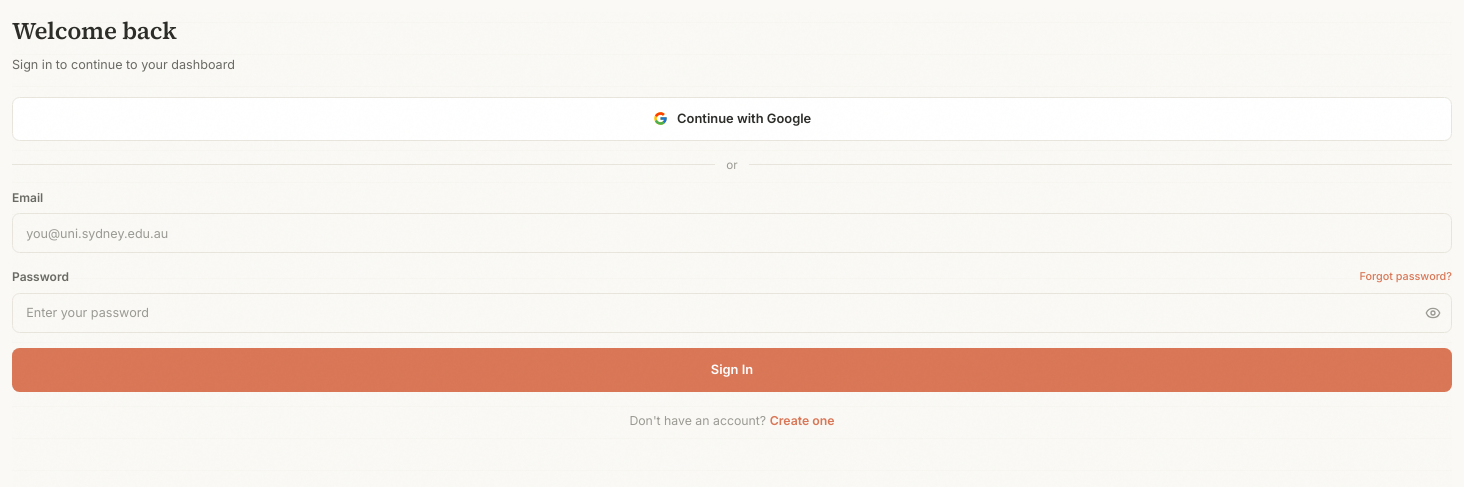
Test: LoginForm › shows inline error on submit when email is invalid
In the field with placeholder "you@uni.sydney.edu.au": [732, 233] box top-left (12, 213), bottom-right (1452, 254), type "test@gmail.com"
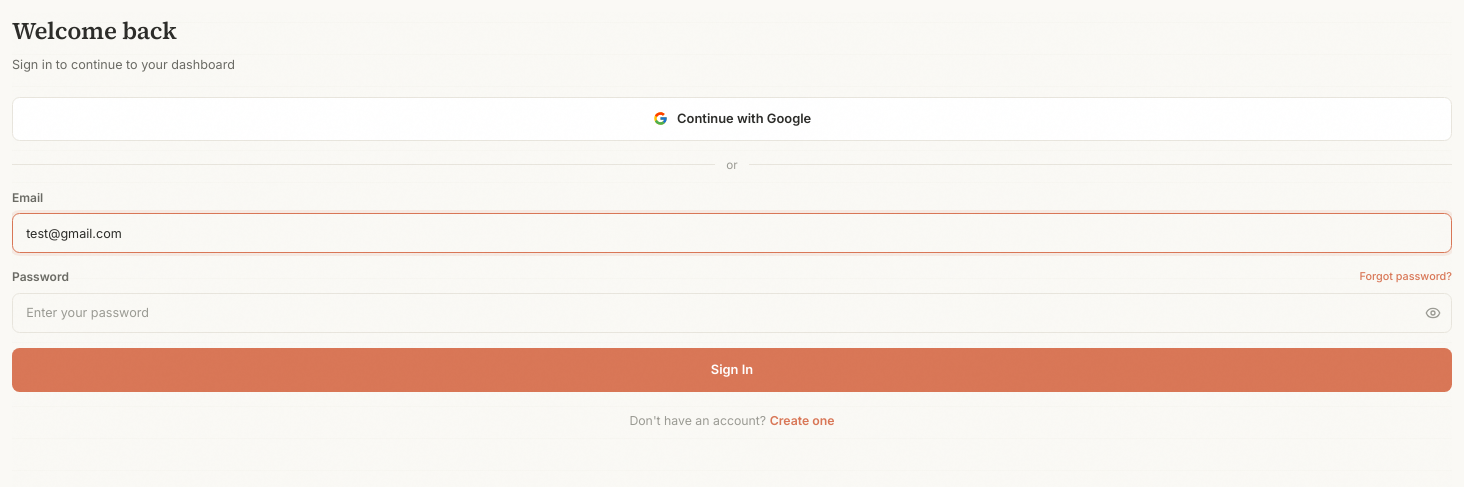
Click the button "Sign In": [732, 370] box top-left (12, 348), bottom-right (1452, 392)
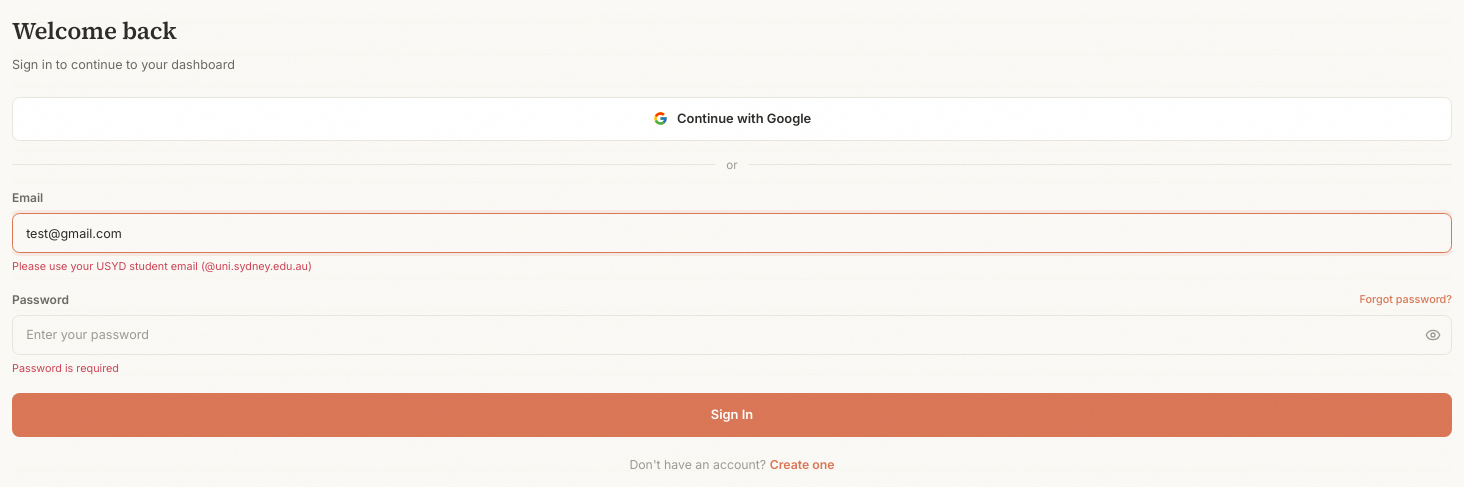
Expected: the text "Please use your USYD student email (@uni.sydney.edu.au)" is shown, top-left (12, 260), bottom-right (312, 273)
